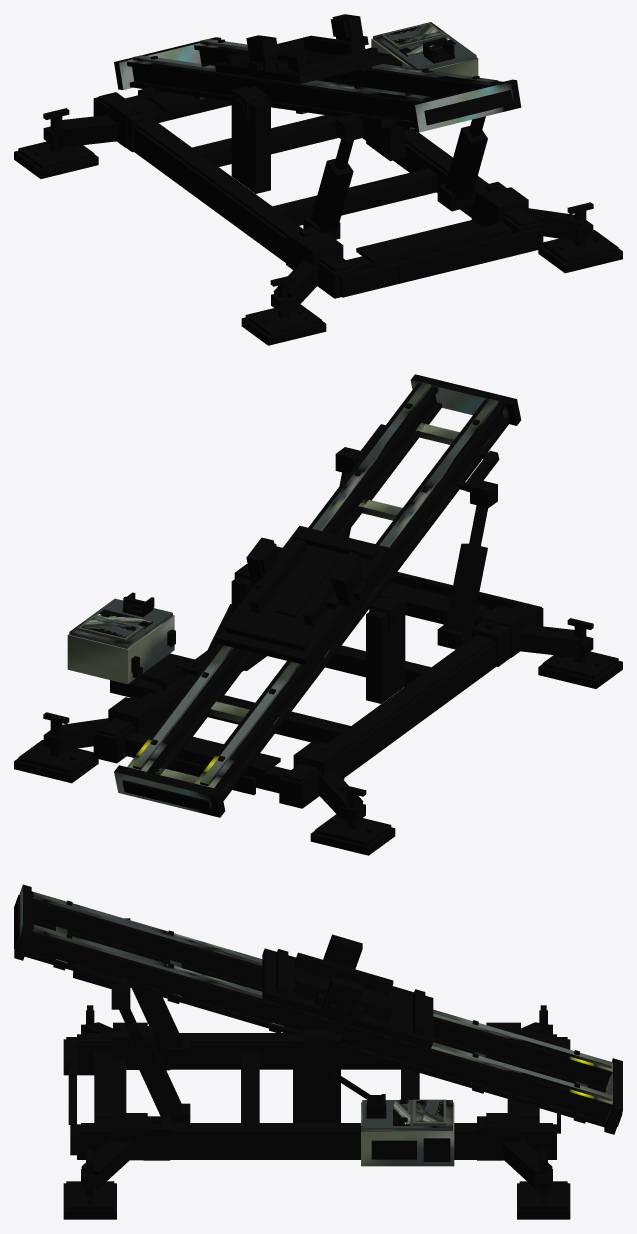
3 renders of one model, top to bottom at view 1: azimuth 30°, elevation 25°; view 2: azimuth 150°, elevation 25°; view 3: azimuth 270°, elevation 25°, orthographic.
Parts seen in each view (by area): view 1: lp01; view 2: lp01; view 3: lp01.
Part boxes in pixels (x1,y1,x2,y2): lp01: [14, 14, 622, 345]; lp01: [14, 374, 622, 855]; lp01: [14, 884, 622, 1219].
Bounding box in the file's own units: 1.95 × 1.16 × 2.85.
